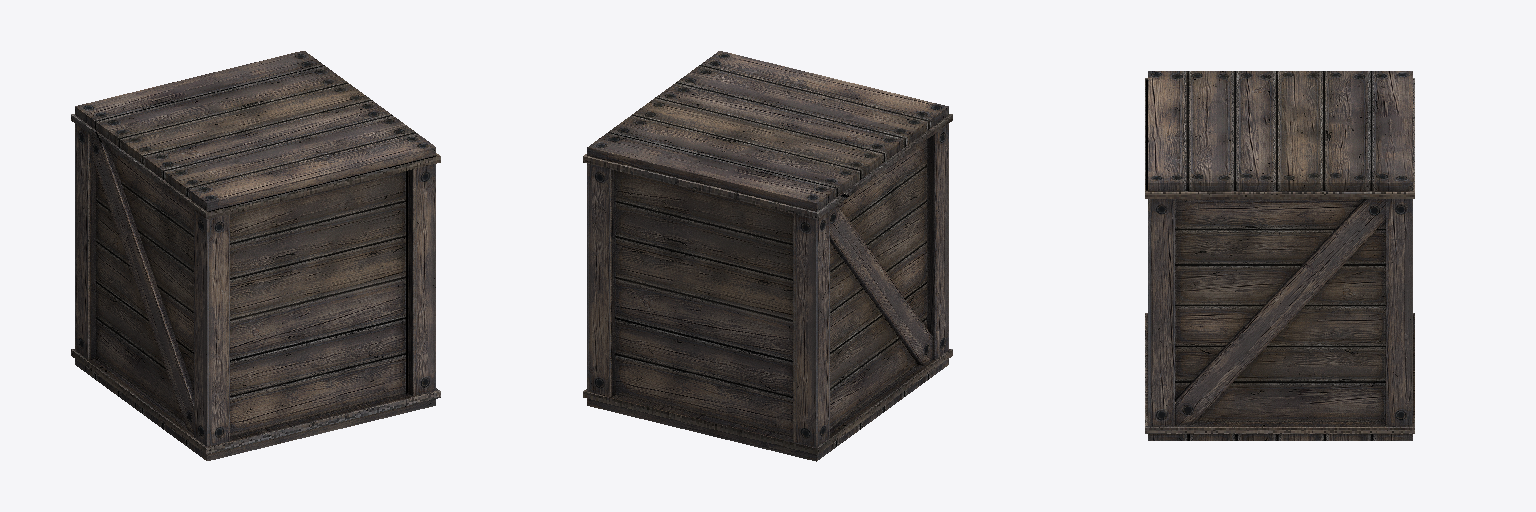
3 renders of one model, left to right at view 1: azimuth 30°, elevation 25°; view 2: azimuth 150°, elevation 25°; view 3: azimuth 270°, elevation 25°, orthographic.
Visible parts, largest first — view 1: Crate; view 2: Crate; view 3: Crate.
Boxes of the visible parts, <box> form: Crate: <box>71,51,440,460</box>; Crate: <box>583,51,952,461</box>; Crate: <box>1145,71,1414,440</box>.
Bounding box in the file's own units: 0.9828 × 1.03 × 0.9828.
1 materials, 1 textured.